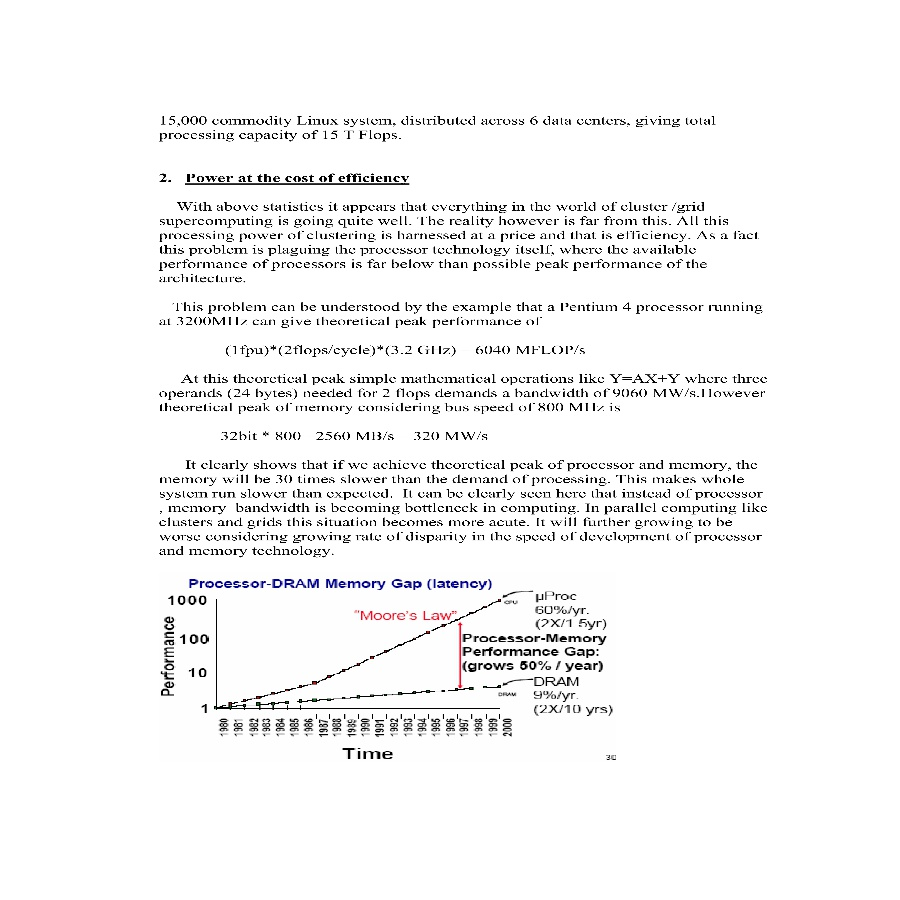eq: (222, 340, 592, 359), (219, 426, 496, 445)
